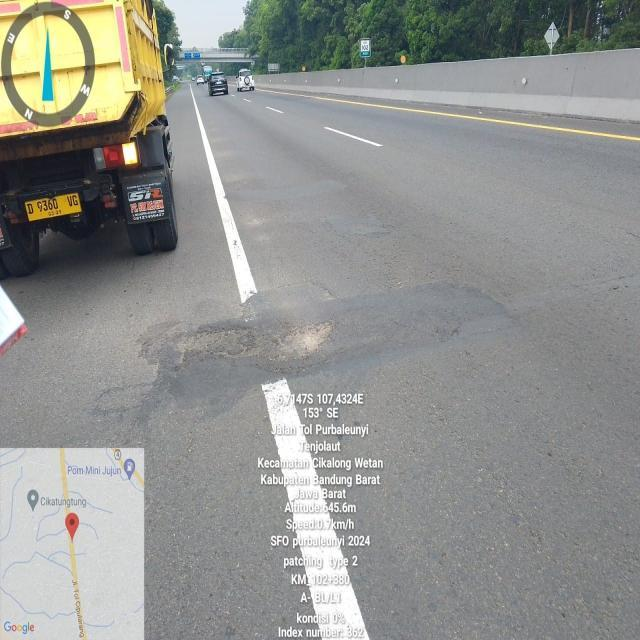Buraco: (168, 317, 345, 378)
